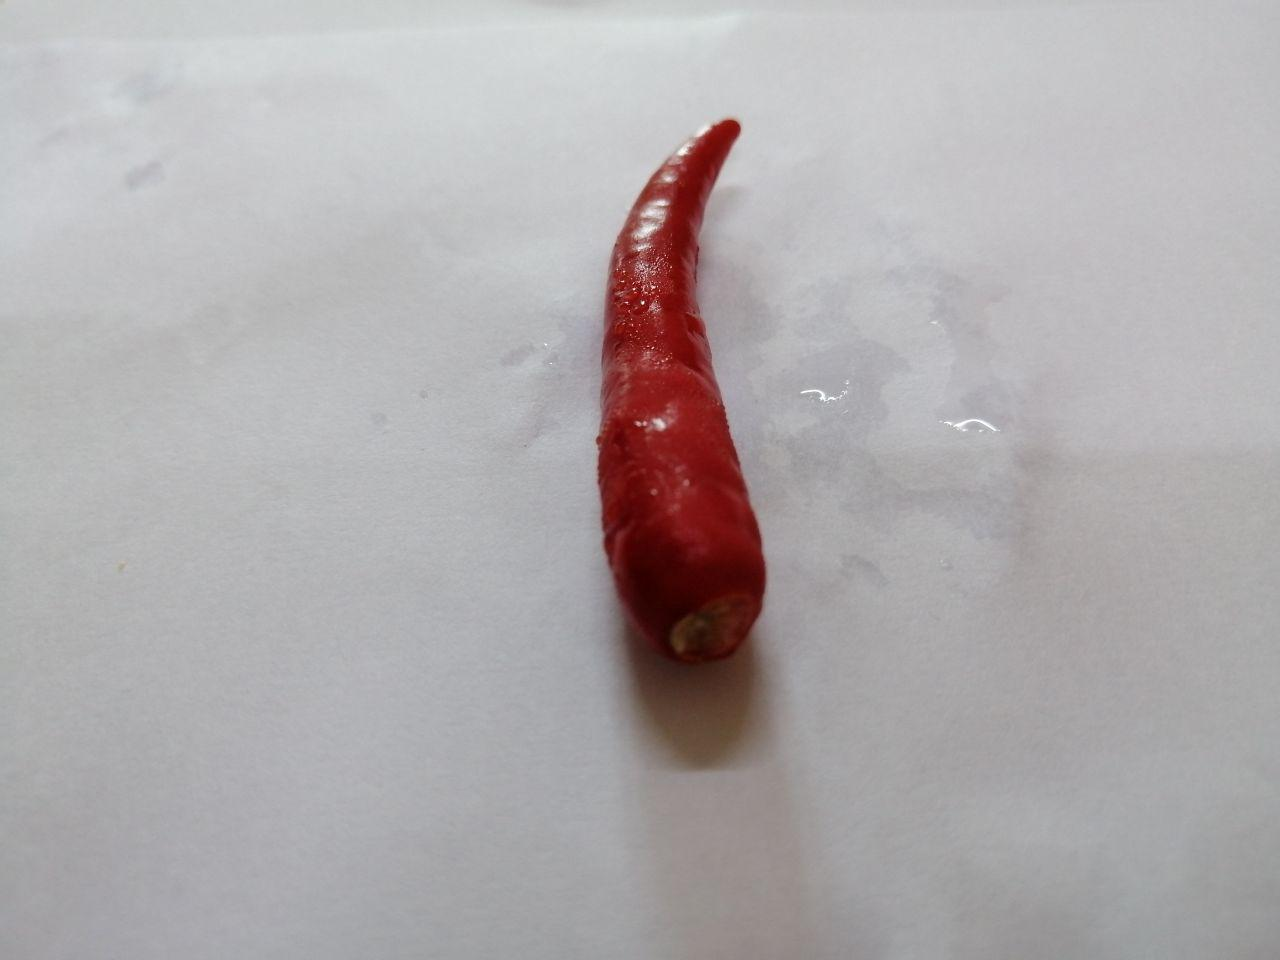lada merah: (575, 112, 777, 678)
